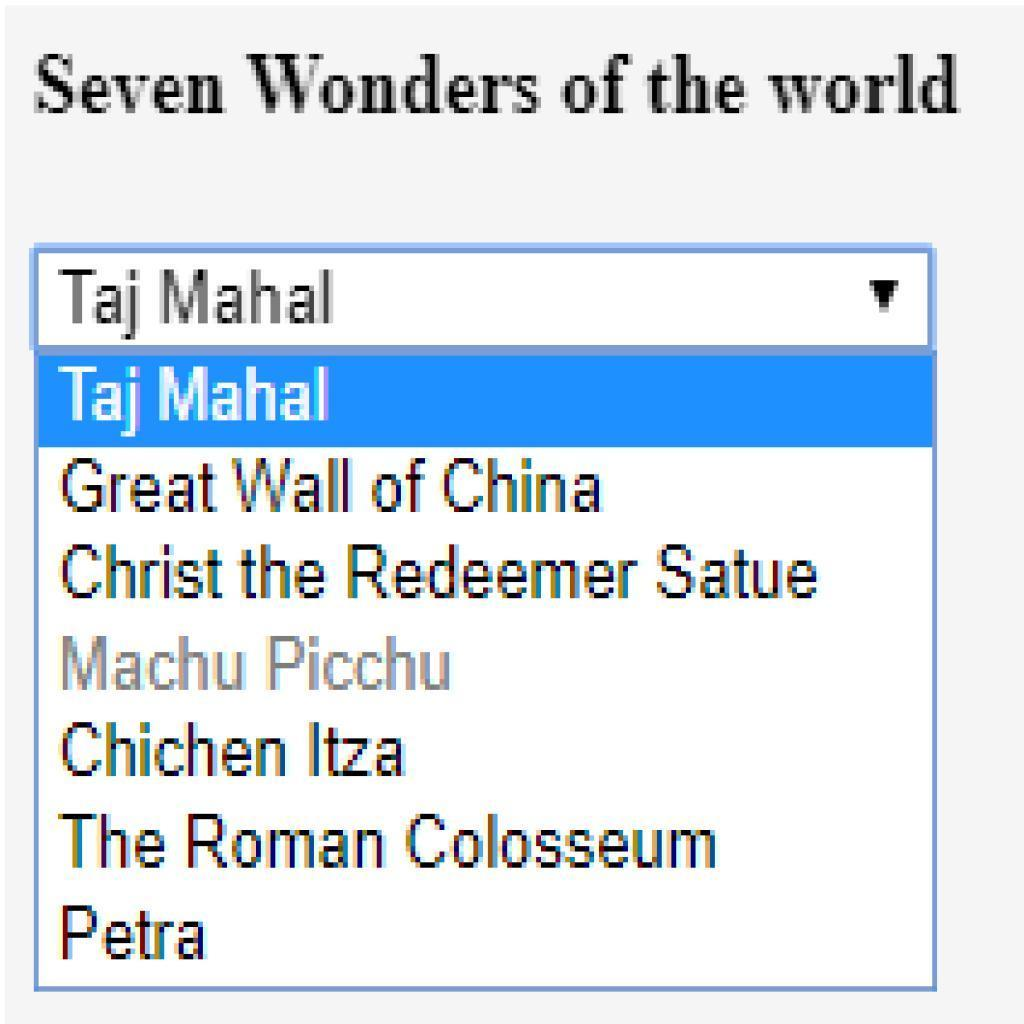dropdown: (29, 242, 938, 355)
